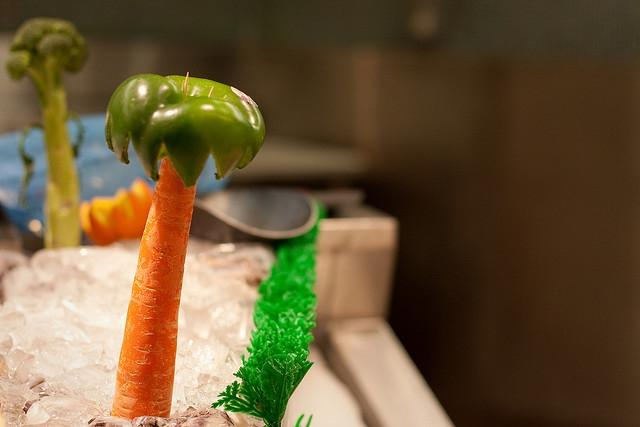bell pepper: (104, 73, 266, 189)
broccoli: (5, 18, 95, 250)
carrot: (111, 155, 197, 422)
orange: (78, 178, 153, 246)
